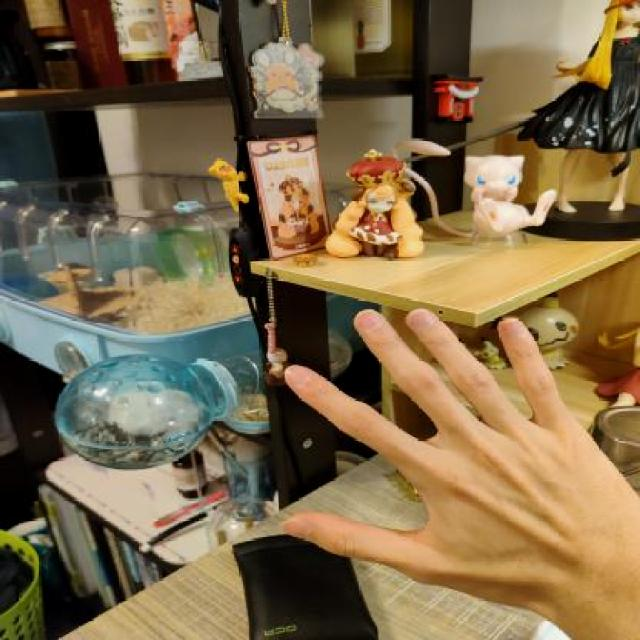no_glove: (255, 292, 640, 638)
